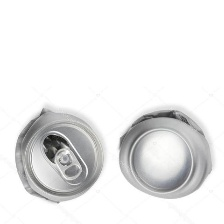can: (9, 101, 109, 211), (113, 105, 215, 198)
